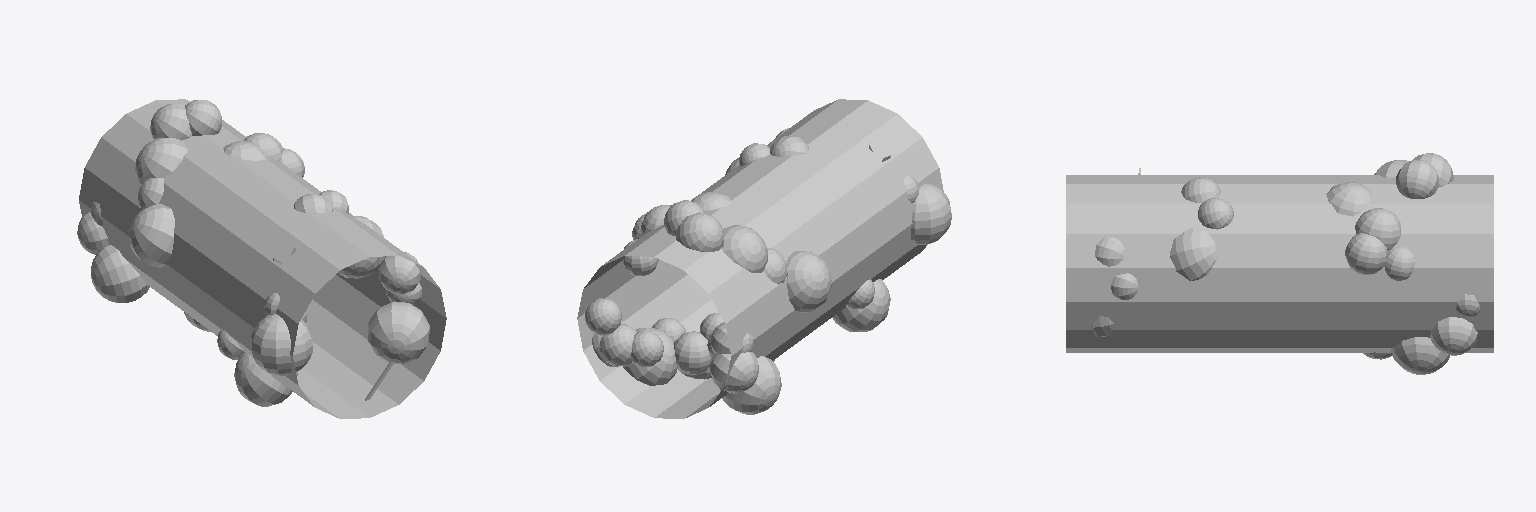
The model's file is Straight_A.obj.
The picture shows the model from 3 angles: view 1: azimuth 30°, elevation 25°; view 2: azimuth 150°, elevation 25°; view 3: azimuth 270°, elevation 25°; orthographic projection.
Parts seen in each view (by area): view 1: straight_B; view 2: straight_B; view 3: straight_B.
Part boxes in pixels (x1,y1,x2,y2): straight_B: (77,99,446,418); straight_B: (577,99,951,418); straight_B: (1066,153,1493,374).
Bounding box in the file's own units: 97.31 × 102 × 197.